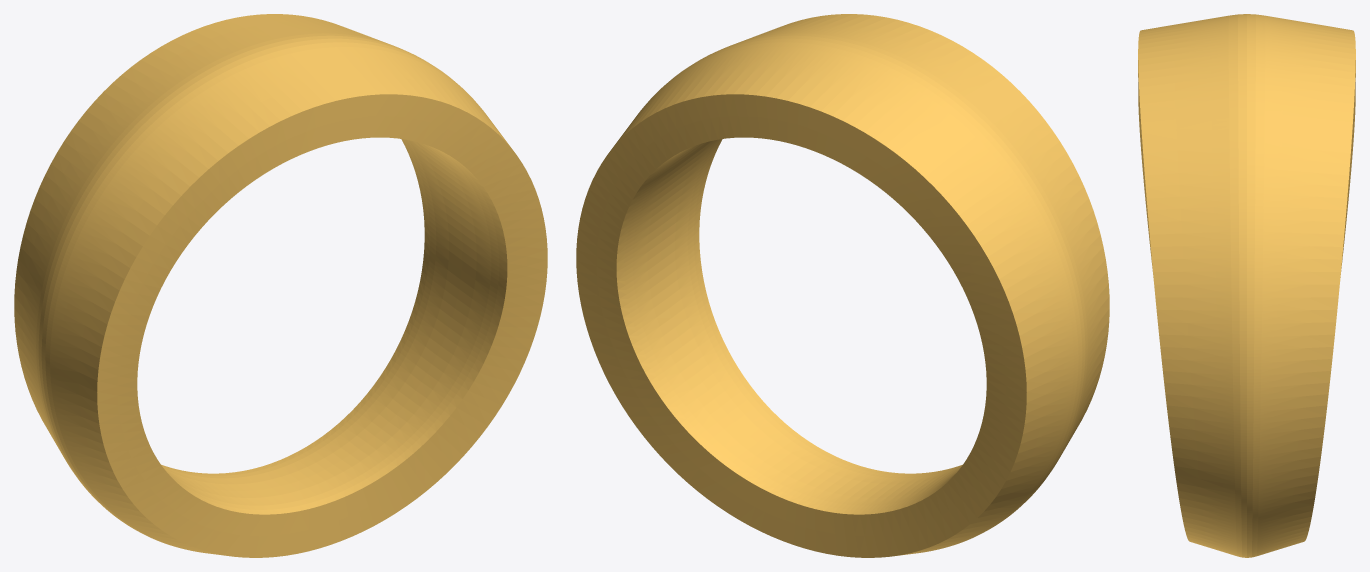
The model's file is plain_ring.gltf.
3 renders of one model, left to right at view 1: azimuth 30°, elevation 25°; view 2: azimuth 150°, elevation 25°; view 3: azimuth 270°, elevation 25°, orthographic.
Parts seen in each view (by area): view 1: Base Ring Plain; view 2: Base Ring Plain; view 3: Base Ring Plain.
Boxes of the visible parts, x1,y1,x2,y2 form: Base Ring Plain: (14,14,547,557); Base Ring Plain: (576,14,1109,557); Base Ring Plain: (1138,14,1355,557).
Bounding box in the file's own units: 24.99 × 24.99 × 10.
Materials: 1 (1 with a texture image).
